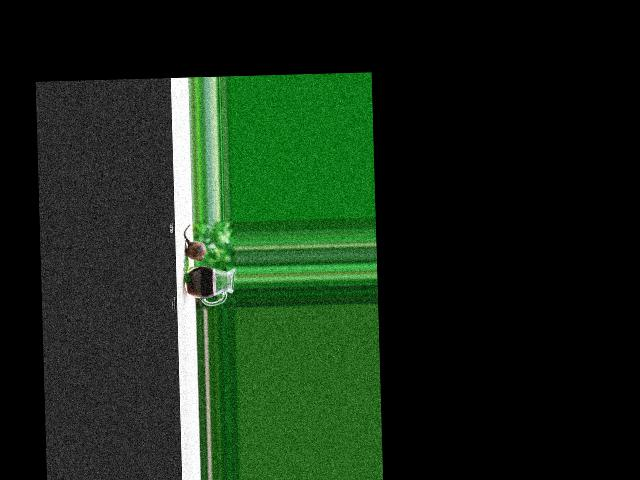beet: (183, 224, 206, 261)
